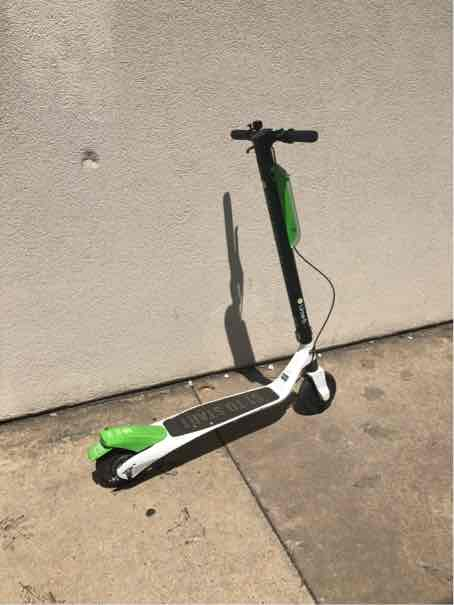scooter: (79, 117, 340, 494)
